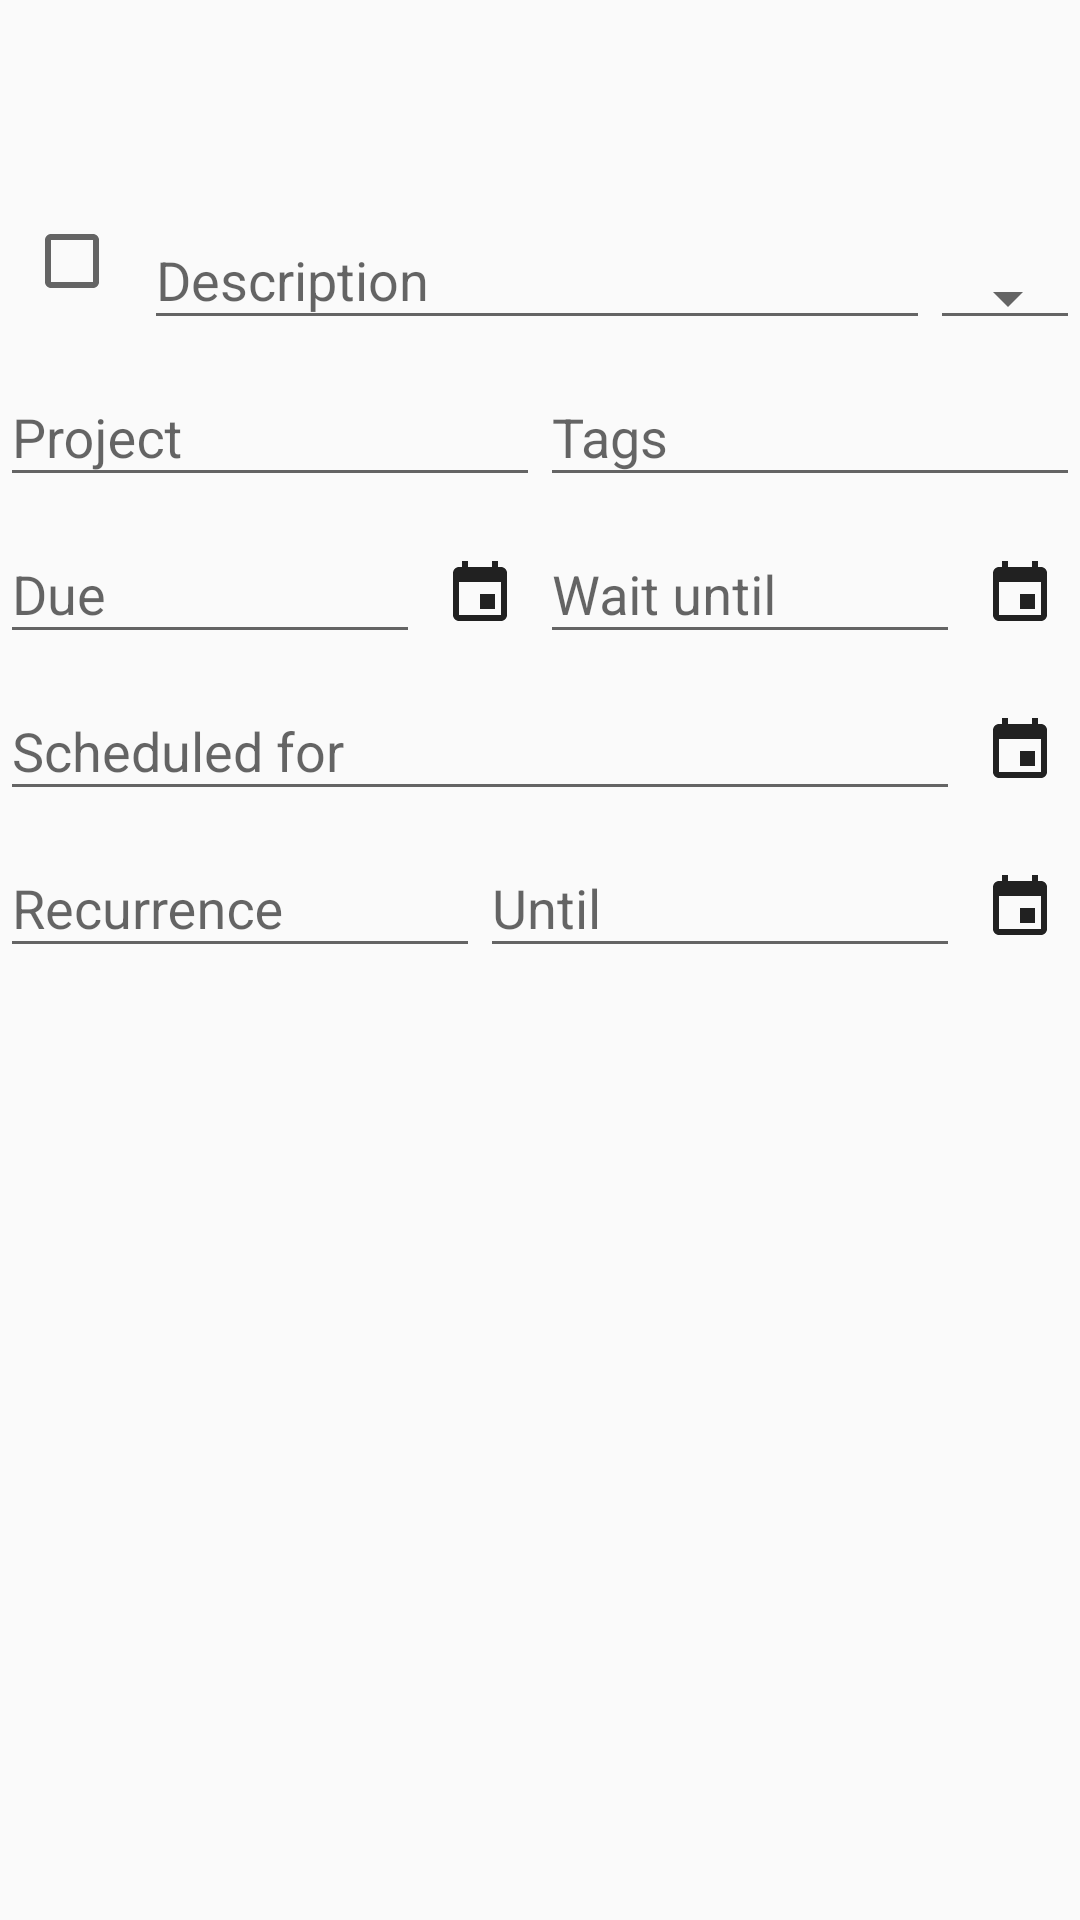

Icon bounding boxes for this 1080w x 1920h phone screenshot, format {"left": x1, "top": y1, "right": x2, "bottom": y2}:
date: {"left": 453, "top": 561, "right": 507, "bottom": 621}, {"left": 993, "top": 561, "right": 1047, "bottom": 621}, {"left": 993, "top": 718, "right": 1047, "bottom": 778}, {"left": 993, "top": 875, "right": 1047, "bottom": 935}
